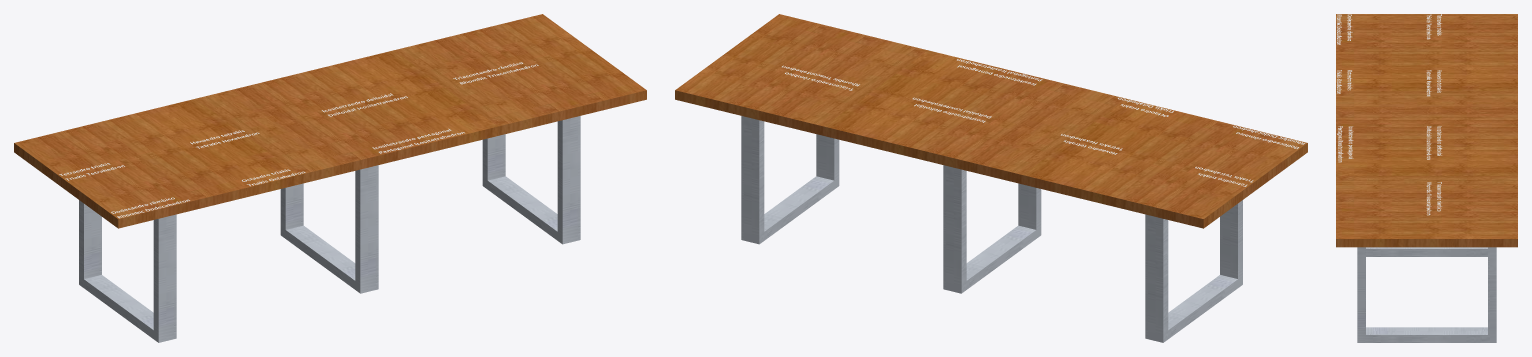
Rendered from mesa_Catalan1.glb.
3 views of the same model, side by side, from view 1: azimuth 30°, elevation 25°; view 2: azimuth 150°, elevation 25°; view 3: azimuth 270°, elevation 25° (orthographic). The views are drawn at different scales.
Visible parts, largest first — view 1: object 1, Composant#1 (×3); view 2: object 1, Composant#1 (×3); view 3: object 1, Composant#1 (×2), Icositetraedro p, Icositetraedro d, Triacontaedro rô, Dodecaedro rômbi, Hexaedro tetraki, Tetraedro triaki, Octaedro triakis.
Boxes of the visible parts, bbox=[...] form: object 1: bbox=[14, 14, 646, 228]; Composant#1 (×3): bbox=[79, 116, 580, 342]; object 1: bbox=[675, 14, 1307, 228]; Composant#1 (×3): bbox=[741, 116, 1242, 342]; object 1: bbox=[1336, 14, 1517, 247]; Composant#1 (×2): bbox=[1357, 247, 1496, 342]; Icositetraedro p: bbox=[1337, 126, 1353, 162]; Icositetraedro d: bbox=[1426, 126, 1441, 159]; Triacontaedro rô: bbox=[1426, 182, 1441, 215]; Dodecaedro rômbi: bbox=[1337, 14, 1352, 44]; Hexaedro tetraki: bbox=[1426, 70, 1441, 96]; Tetraedro triaki: bbox=[1426, 14, 1441, 39]; Octaedro triakis: bbox=[1337, 70, 1351, 93].
Size of the model in its own units: 2.93 by 0.771 by 1.
3 materials, 2 textured.
